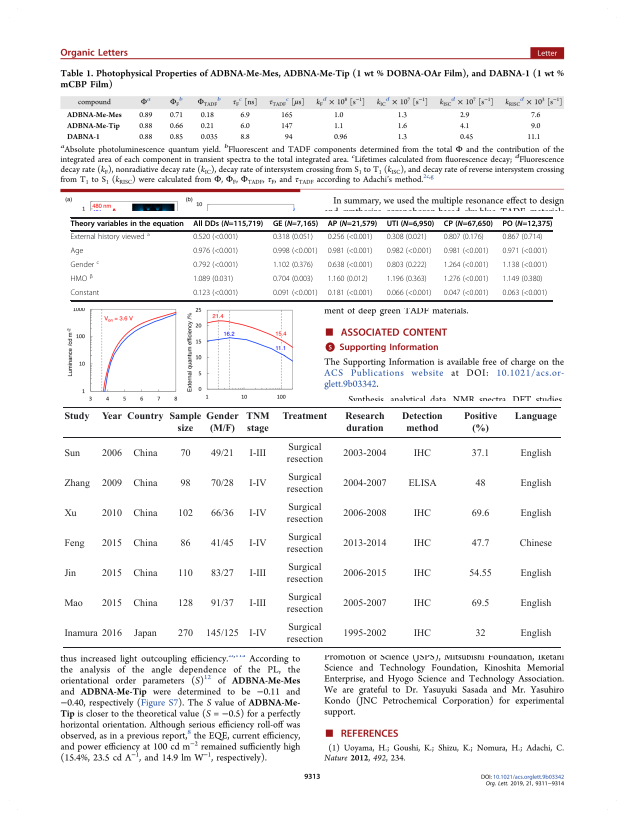borderless: (62, 406, 561, 647), (69, 216, 552, 300)
cell: (70, 220, 185, 229), (69, 231, 151, 243), (401, 412, 443, 435), (344, 412, 385, 435), (285, 472, 324, 496), (285, 443, 324, 466), (285, 502, 324, 525), (285, 532, 324, 555), (285, 562, 324, 585), (285, 592, 324, 615), (285, 622, 324, 645), (463, 412, 498, 435), (168, 412, 202, 435), (205, 412, 239, 435), (192, 220, 264, 229), (245, 412, 270, 435), (342, 478, 387, 490), (281, 412, 328, 423), (513, 412, 558, 423), (342, 449, 387, 460), (342, 508, 387, 519), (342, 538, 387, 549), (342, 568, 387, 579), (342, 598, 387, 609), (342, 628, 387, 639), (192, 233, 239, 243), (192, 247, 239, 257), (501, 247, 548, 257), (192, 261, 239, 271), (501, 261, 548, 271), (192, 289, 239, 299), (501, 289, 548, 299), (501, 220, 553, 229), (327, 233, 373, 243), (272, 247, 318, 257), (327, 247, 373, 257), (386, 247, 432, 257), (443, 247, 489, 257), (327, 261, 373, 271), (443, 261, 489, 271), (443, 275, 489, 285), (272, 289, 318, 299), (327, 289, 373, 299), (386, 289, 432, 299), (443, 289, 489, 299), (327, 220, 378, 229), (443, 220, 494, 229), (386, 220, 435, 229), (272, 220, 319, 229), (272, 233, 314, 243), (386, 233, 428, 243), (443, 233, 485, 243), (501, 233, 543, 243), (272, 261, 314, 271), (386, 261, 428, 271), (192, 275, 234, 285), (272, 275, 314, 285), (386, 275, 428, 285), (501, 275, 543, 285), (126, 412, 164, 423), (327, 275, 368, 285), (519, 478, 552, 490), (518, 538, 553, 549), (63, 628, 98, 639), (205, 628, 239, 639), (519, 449, 552, 460), (519, 508, 552, 519), (519, 568, 552, 579), (519, 598, 552, 609), (519, 628, 552, 639), (407, 478, 437, 490), (70, 259, 100, 271), (63, 478, 91, 490), (132, 478, 158, 490), (70, 289, 100, 299), (63, 412, 90, 423), (210, 478, 234, 490), (70, 273, 94, 285), (132, 449, 158, 460), (132, 508, 158, 519), (132, 538, 158, 549), (132, 568, 158, 579), (132, 598, 158, 609), (210, 449, 234, 460), (101, 478, 123, 490), (210, 508, 234, 519), (210, 538, 234, 549), (210, 568, 234, 579), (468, 568, 492, 579), (210, 598, 234, 609), (133, 628, 157, 639), (101, 412, 123, 423), (100, 449, 122, 460), (100, 508, 122, 519), (63, 538, 85, 549), (101, 538, 123, 549), (101, 568, 123, 579), (101, 598, 123, 609), (101, 628, 123, 639), (248, 478, 267, 490), (412, 449, 432, 460), (470, 449, 490, 460), (412, 508, 432, 519), (470, 508, 490, 519), (412, 538, 432, 549), (470, 538, 490, 549), (412, 568, 432, 579), (63, 598, 83, 609), (412, 598, 432, 609), (470, 598, 490, 609), (412, 628, 432, 639), (248, 449, 267, 460), (248, 508, 267, 519), (248, 538, 267, 549), (248, 568, 267, 579), (248, 598, 267, 609), (248, 628, 267, 639), (63, 449, 81, 460), (177, 508, 194, 519), (177, 598, 194, 609), (177, 628, 194, 639), (177, 568, 193, 579), (63, 508, 77, 519), (63, 568, 77, 579), (179, 478, 191, 490), (474, 478, 486, 490), (70, 247, 84, 257), (179, 449, 191, 460), (179, 538, 191, 549), (474, 628, 486, 639)
